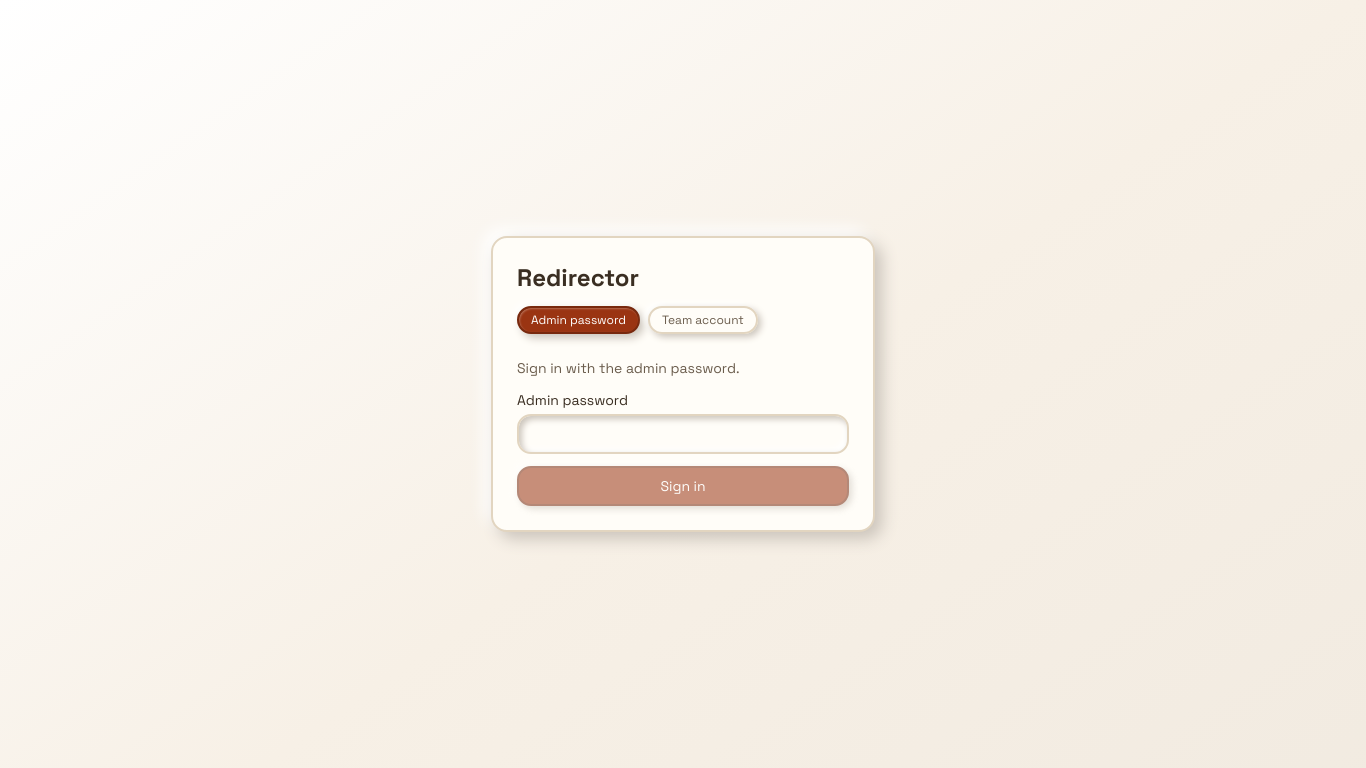
Test: Login › signs up a team account and lands on the dashboard
The image size is (1366, 768).
Click the tab "Team account". click: point(703, 320)
box: [648,306,758,334]
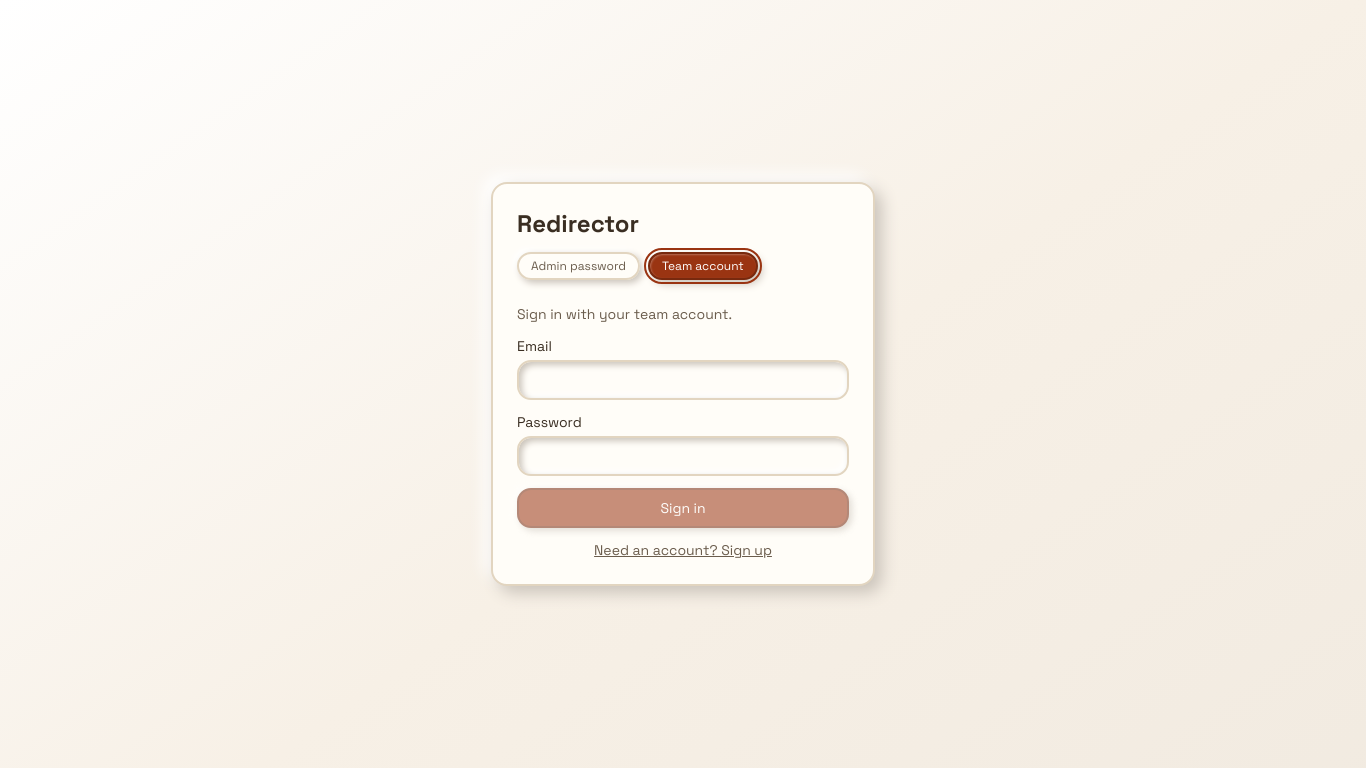
Click the button "Need an account? Sign up". click: point(683, 550)
box: [517,540,849,560]
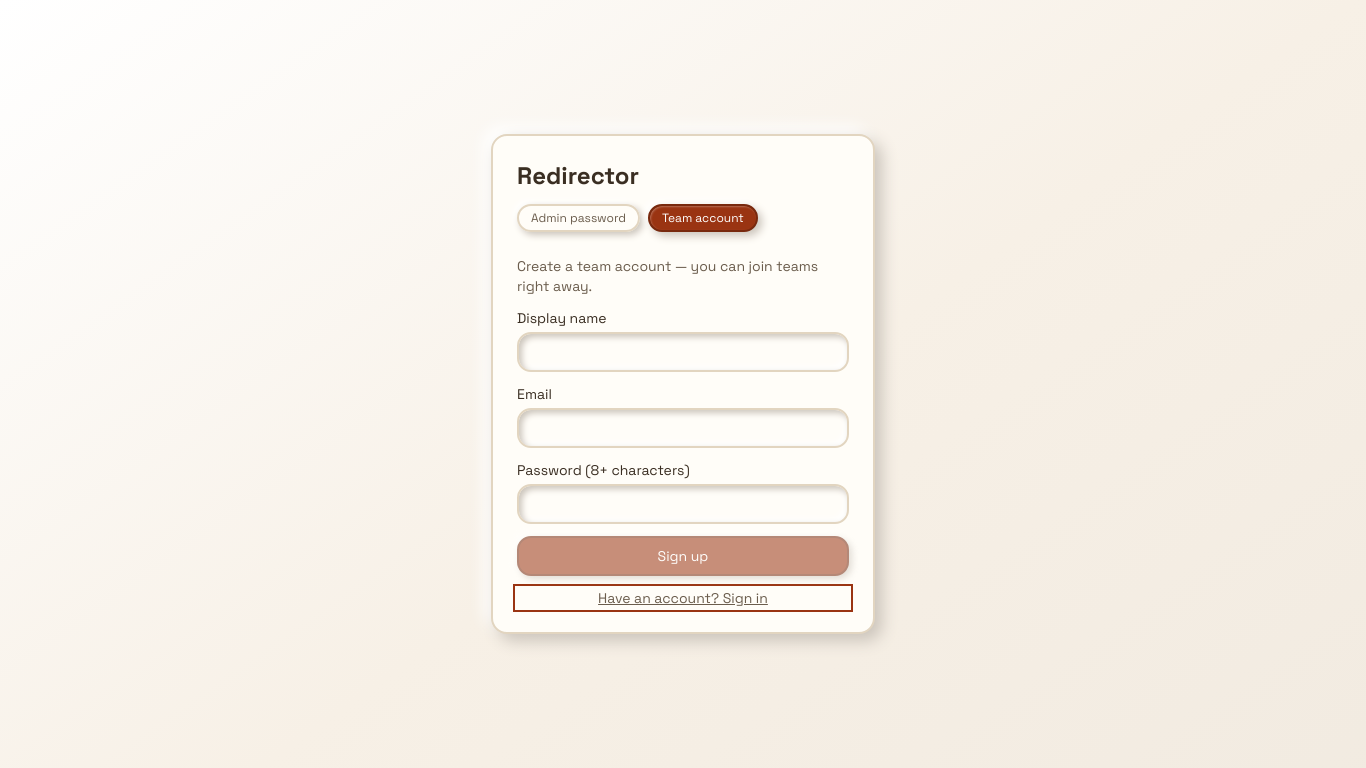
Type "Amy" into the field labelled "Display name". click: point(683, 352)
box: [517,332,849,372]
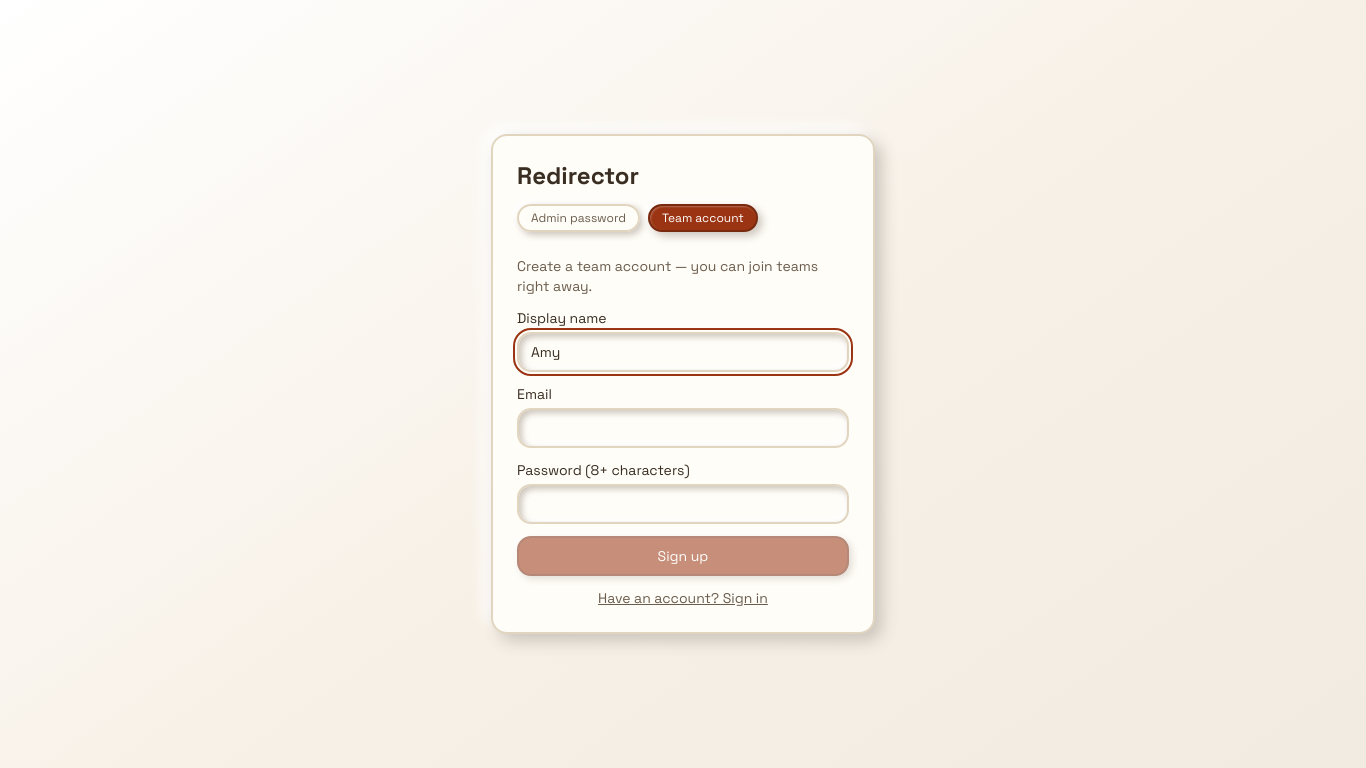
Type "amy@x.com" into the field labelled "Email". click: point(683, 428)
box: [517,408,849,448]
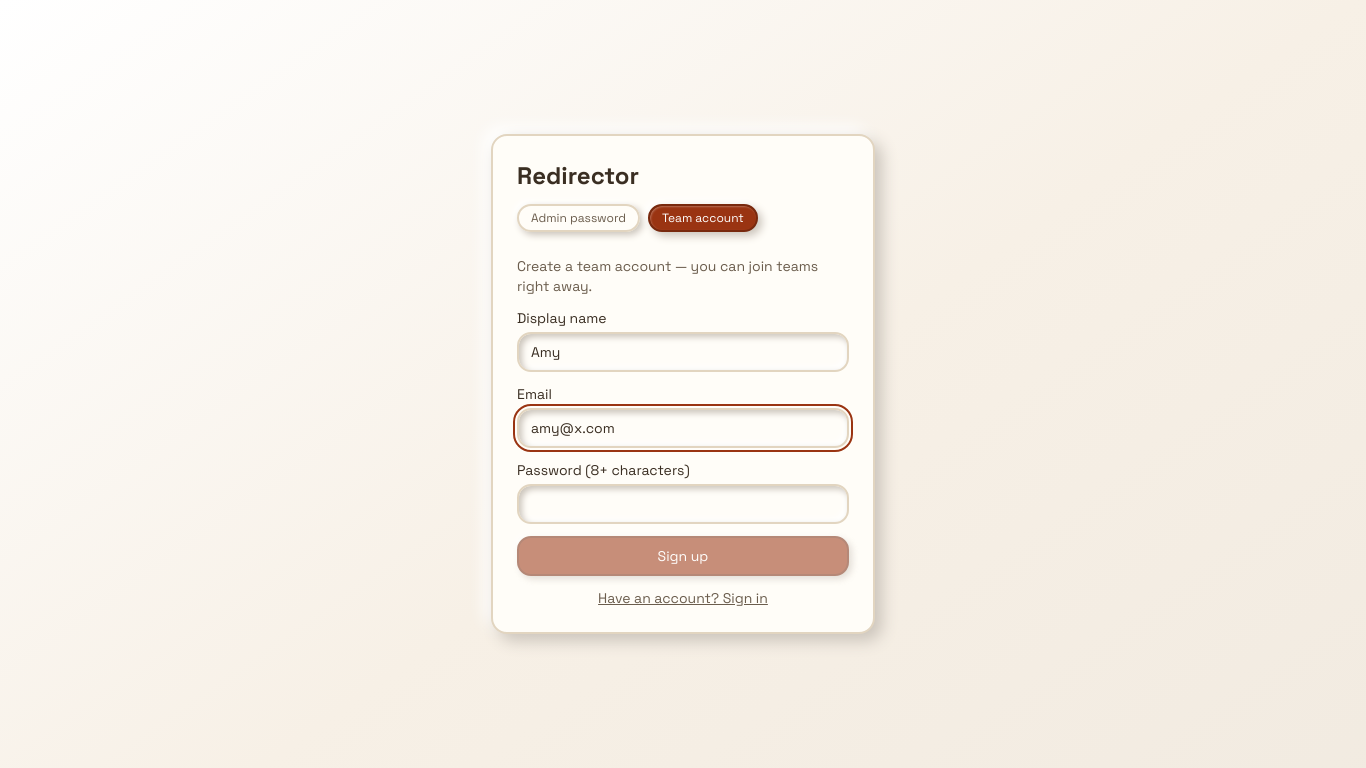
Type "password123" into the password field labelled "Password (8+ characters)". click: point(683, 504)
box: [517,484,849,524]
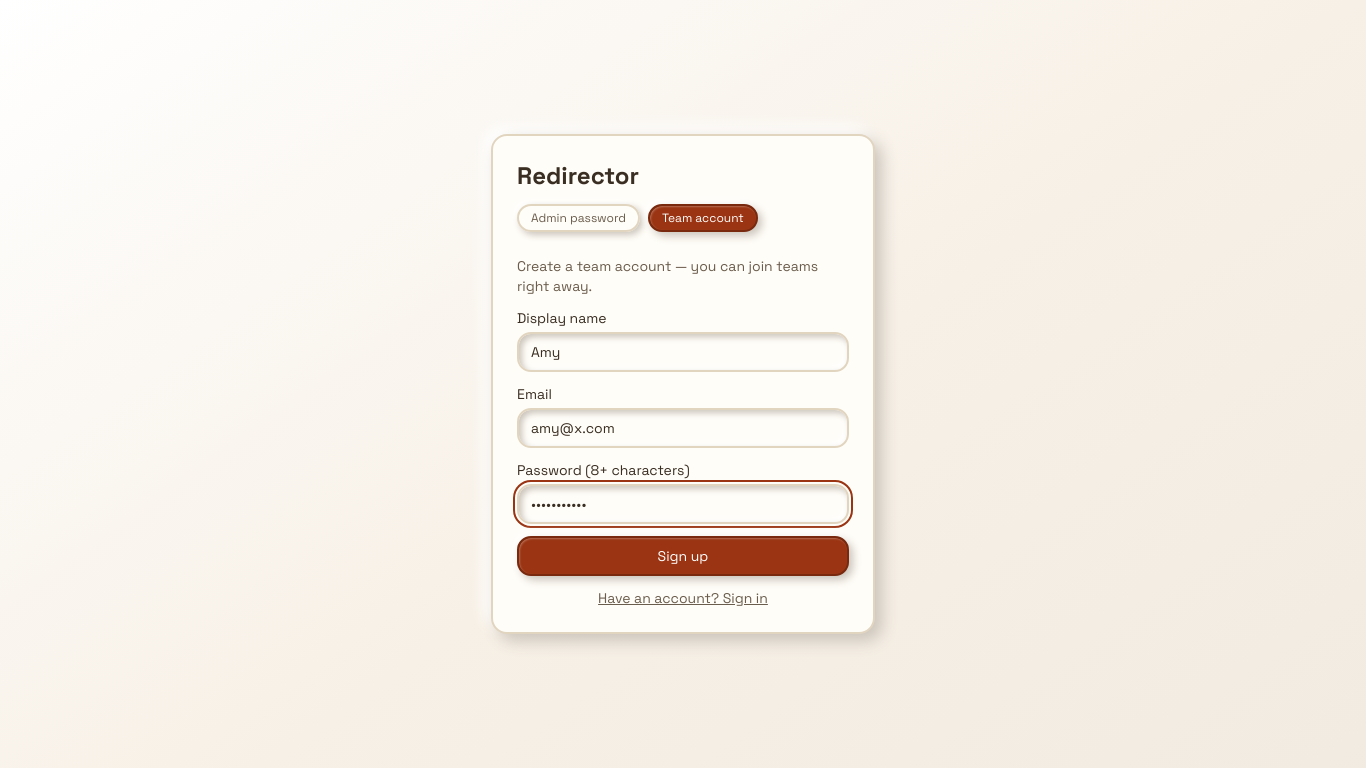
Click the button "Sign up". click: point(683, 556)
box: [517,536,849,576]
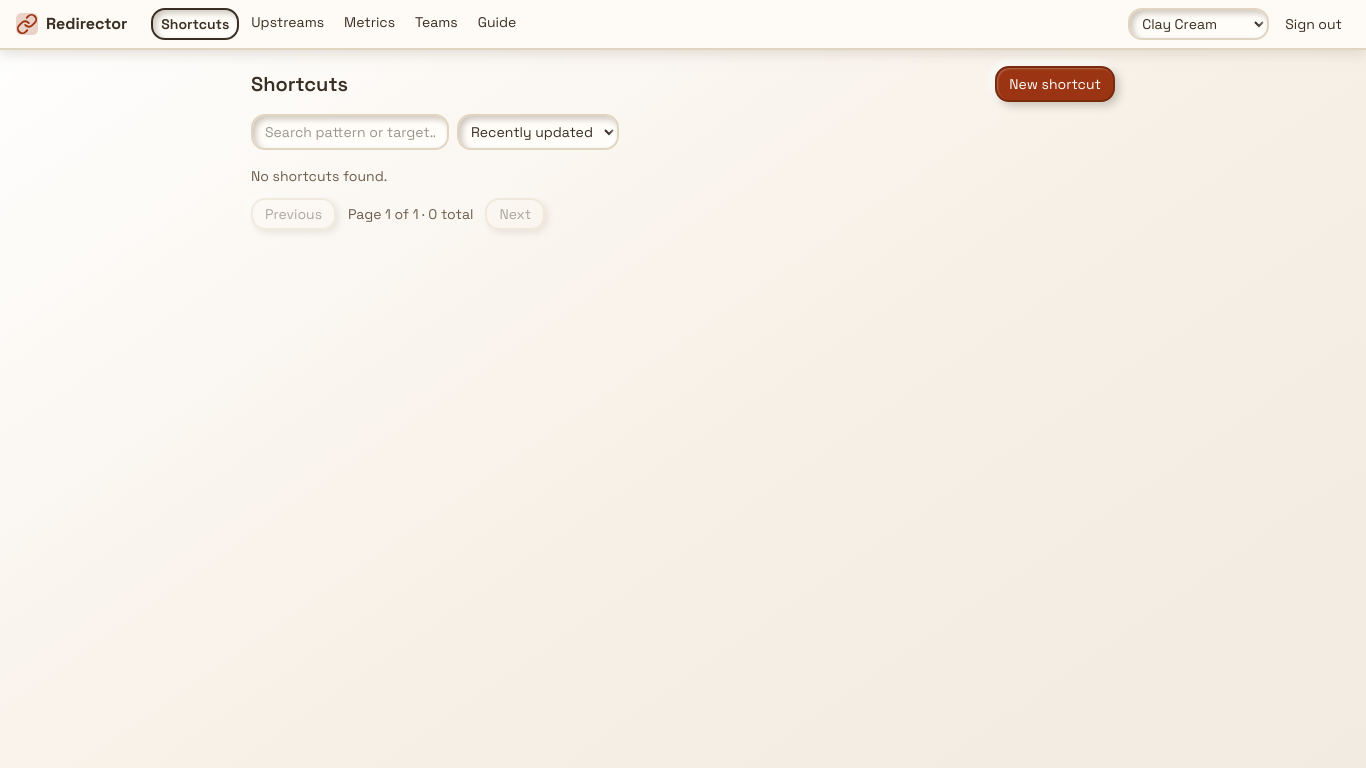
Now the heading "Shortcuts" is shown, box [251,70,348,98]
